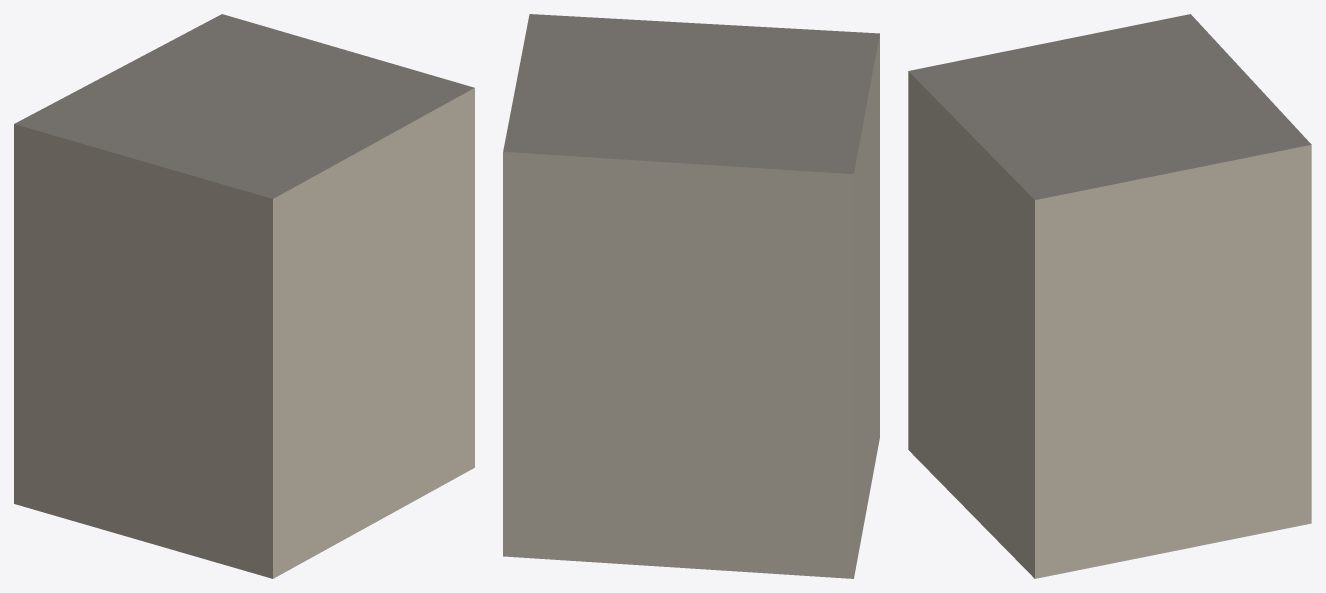
3 renders of one model, left to right at view 1: azimuth 30°, elevation 25°; view 2: azimuth 150°, elevation 25°; view 3: azimuth 270°, elevation 25°, orthographic. The views are drawn at different scales.
Parts seen in each view (by area): view 1: HP-w505659423; view 2: HP-w505659423; view 3: HP-w505659423.
Boxes of the visible parts, x1,y1,x2,y2 form: HP-w505659423: (14, 14, 474, 578); HP-w505659423: (503, 14, 879, 578); HP-w505659423: (908, 14, 1311, 578).
Bounding box in the file's own units: 18.97 × 18 × 17.37.
